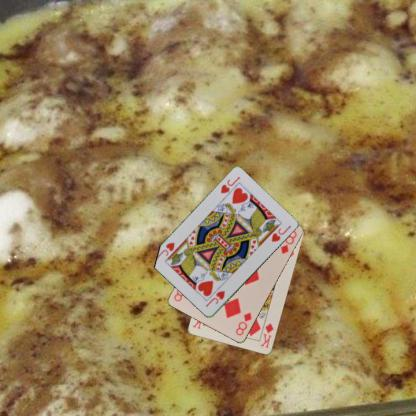8d: (233, 310, 253, 337)
Jh: (218, 174, 241, 196), (203, 288, 226, 308)
Kd: (258, 321, 275, 349)
